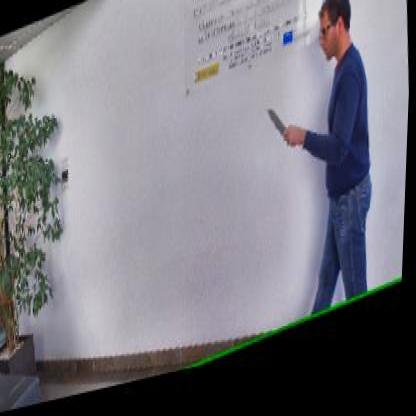knife: (264, 107, 296, 163)
